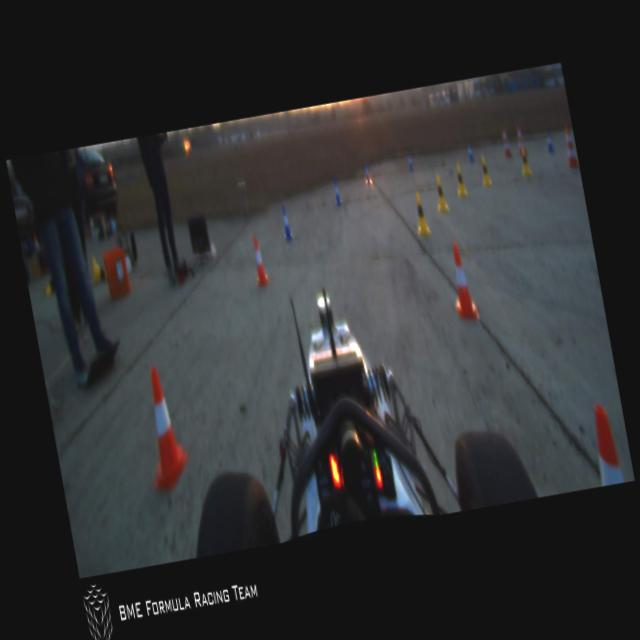blue_cone: (277, 204, 293, 242), (331, 177, 342, 205), (544, 128, 554, 154), (465, 142, 475, 164), (362, 162, 371, 184), (406, 151, 414, 171)
large_orange_cone: (560, 123, 578, 170), (499, 124, 514, 160), (513, 124, 527, 156)
orange_cone: (132, 364, 192, 492), (586, 398, 629, 486), (445, 240, 479, 320), (248, 234, 270, 288)
yellow_cone: (412, 192, 431, 236), (432, 174, 448, 212), (88, 253, 107, 283), (452, 162, 468, 197), (517, 144, 532, 177), (478, 154, 492, 187)
